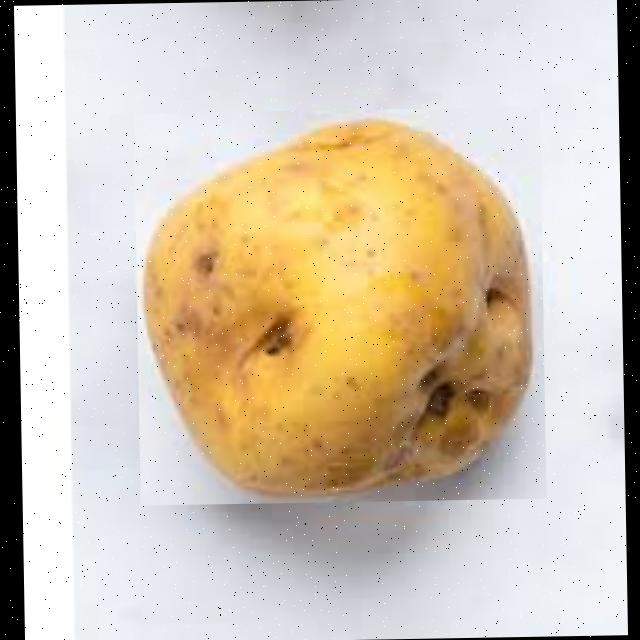Damaged potato: (132, 106, 546, 505)
